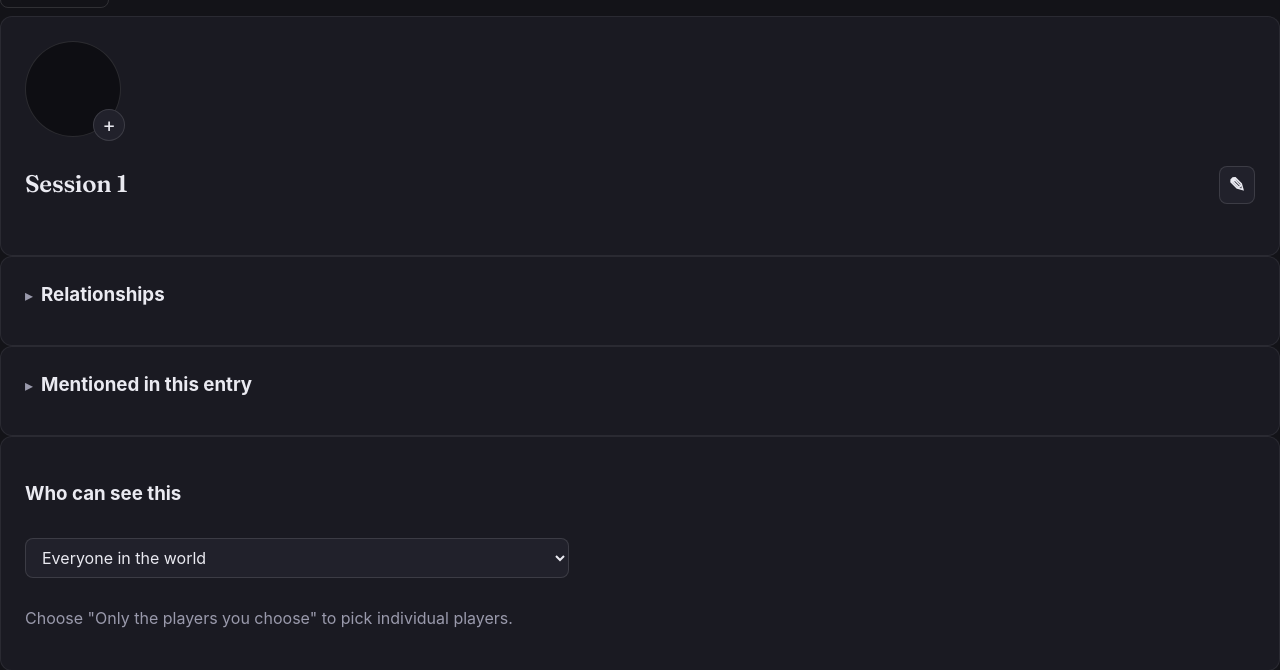
Test: session detail (bespoke fields) › surfaces session save/delete errors
This screenshot has width=1280, height=670.
Click the button named "Edit session" at (1237, 185), box [1219,166,1255,204]
(page scrolled)
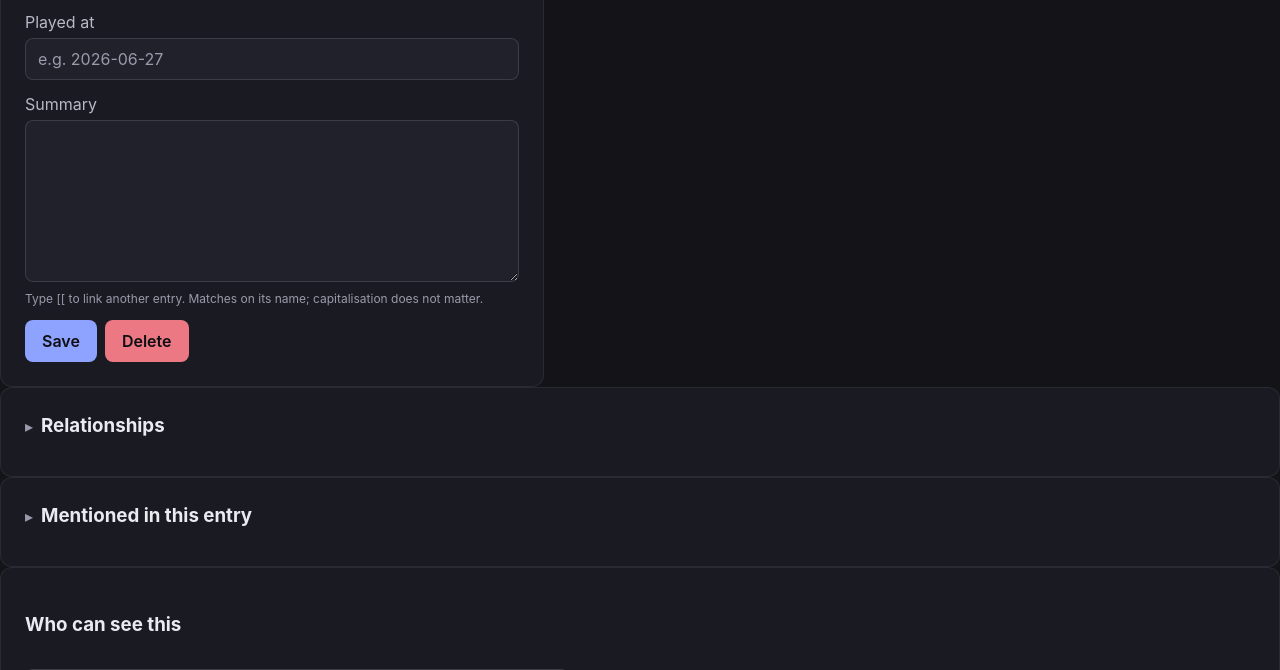
Click the button "Save" at (61, 341), box [25,320,97,362]
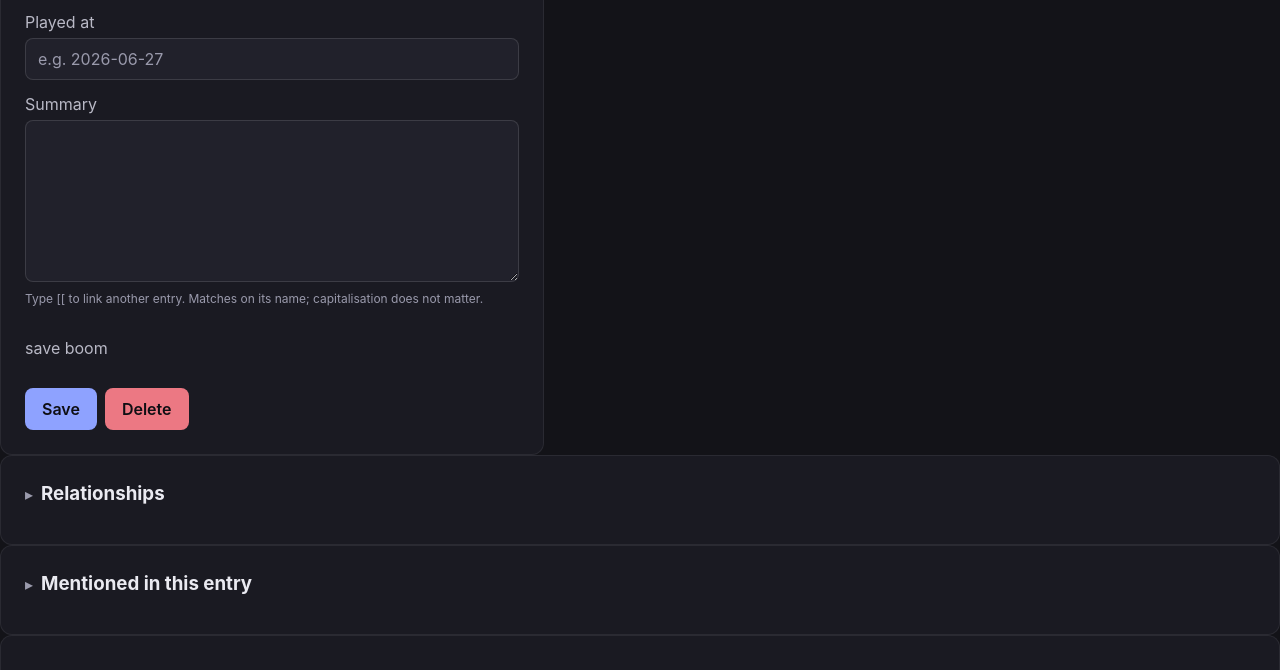
Result: the text "save boom" is shown at [25,336,108,360]
Click the button "Delete" at (147, 409), box [105,388,188,430]
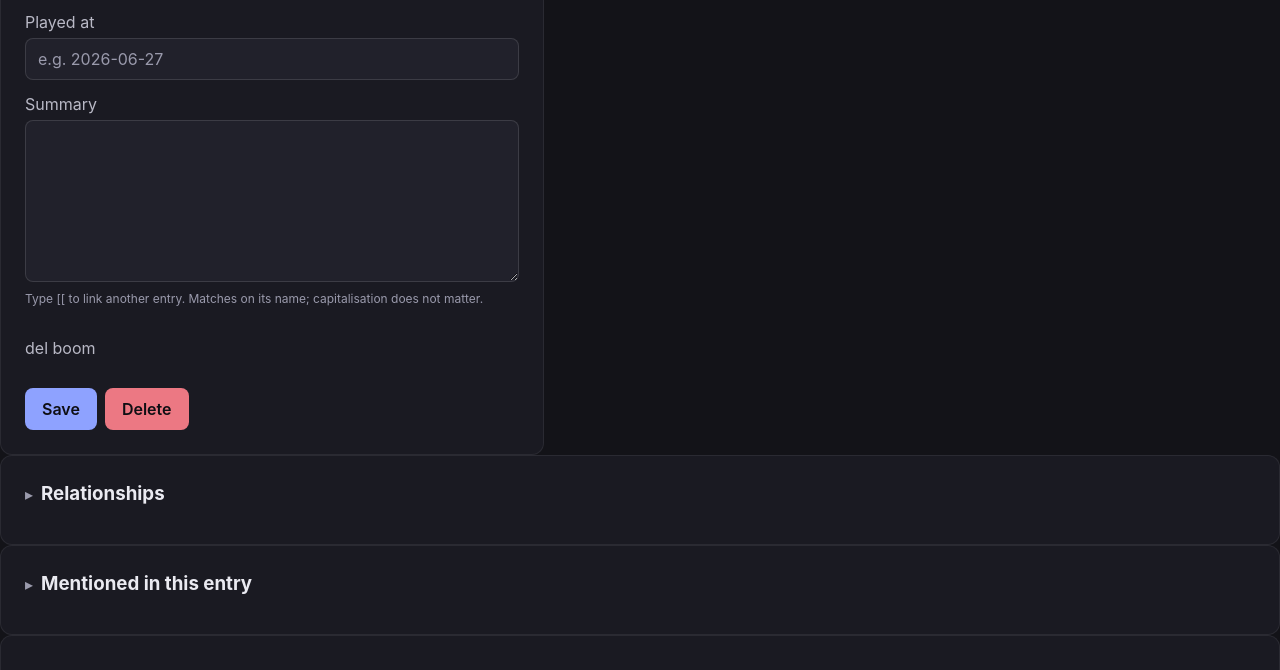
Result: the text "del boom" is shown at [25,336,96,360]
